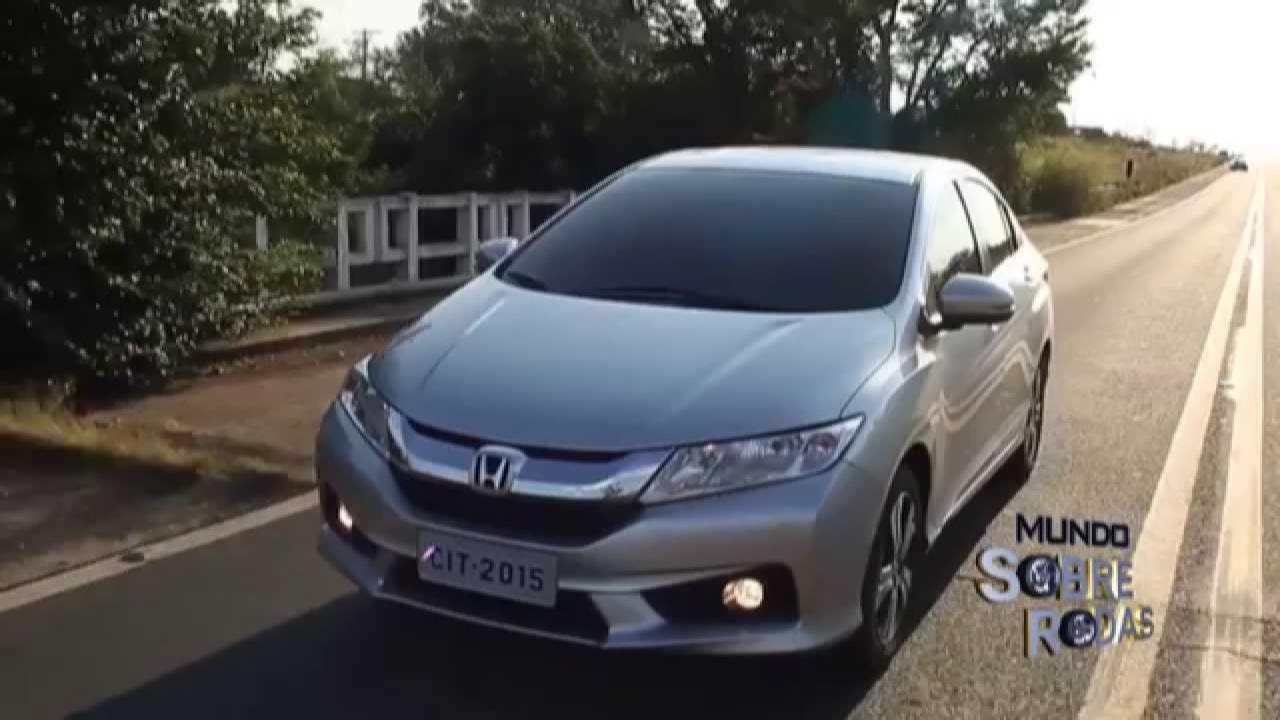Car hood: (367, 254, 904, 455)
Fender - -F-L-: (834, 290, 942, 542)
Front bumper: (297, 409, 881, 657)
Headlight - -L-: (627, 407, 878, 517)
Headlight - -R-: (314, 354, 415, 474)
Passenger-s door - -F-L-: (930, 166, 1003, 519)
Passenger-s door - -R-L-: (976, 164, 1038, 481)
Side bumper - -L-: (914, 401, 1039, 560)
Side mirror - -L-: (914, 264, 1024, 354)
Side mirror - -R-: (467, 220, 537, 276)
